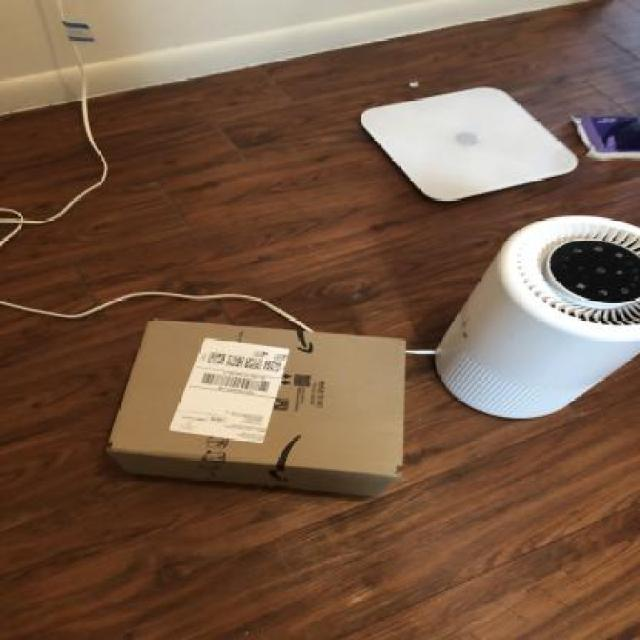cardboxes: (102, 311, 418, 508)
